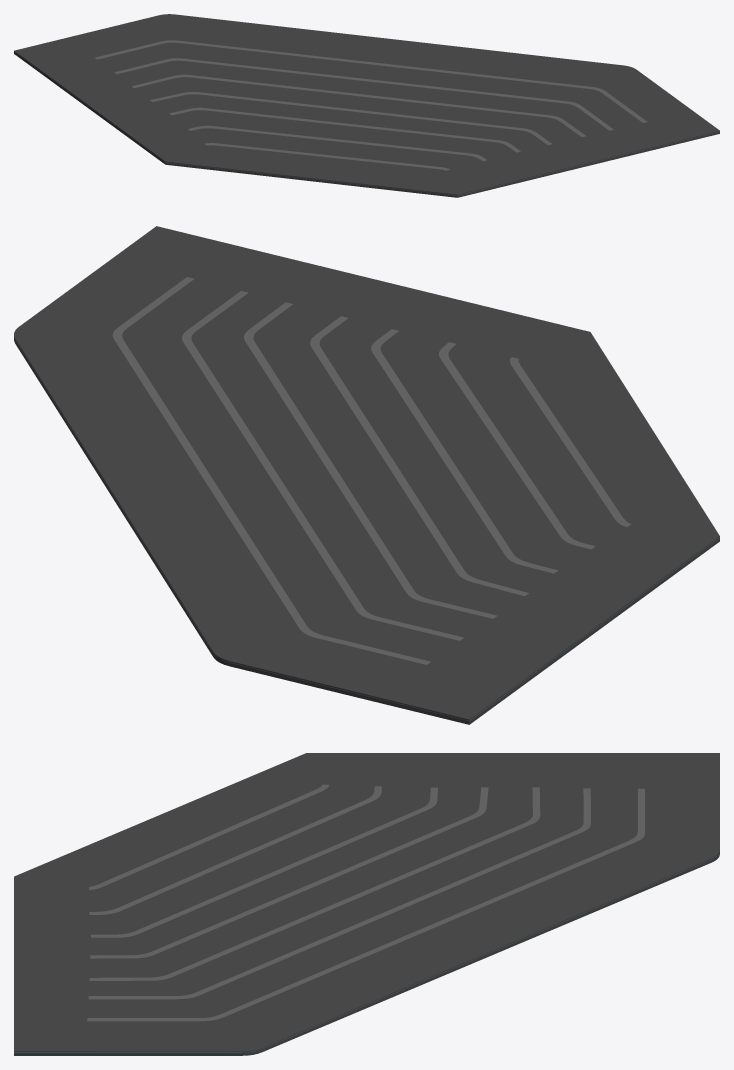
Rendered from MOb_Booth_001_FL_a_29x29.fbx.
The picture shows the model from 3 angles, top to bottom: view 1: azimuth 30°, elevation 25°; view 2: azimuth 150°, elevation 25°; view 3: azimuth 270°, elevation 25°; orthographic projection. The views are drawn at different scales.
Visible parts, largest first — view 1: MOb_Booth_001_FL_a_29x29; view 2: MOb_Booth_001_FL_a_29x29; view 3: MOb_Booth_001_FL_a_29x29.
Part boxes in pixels (box(x1,y1,x2,y2)): MOb_Booth_001_FL_a_29x29: box(14, 14, 719, 197); MOb_Booth_001_FL_a_29x29: box(14, 226, 719, 724); MOb_Booth_001_FL_a_29x29: box(14, 753, 719, 1055).
Bounding box in the file's own units: 29 × 0.2002 × 29.
